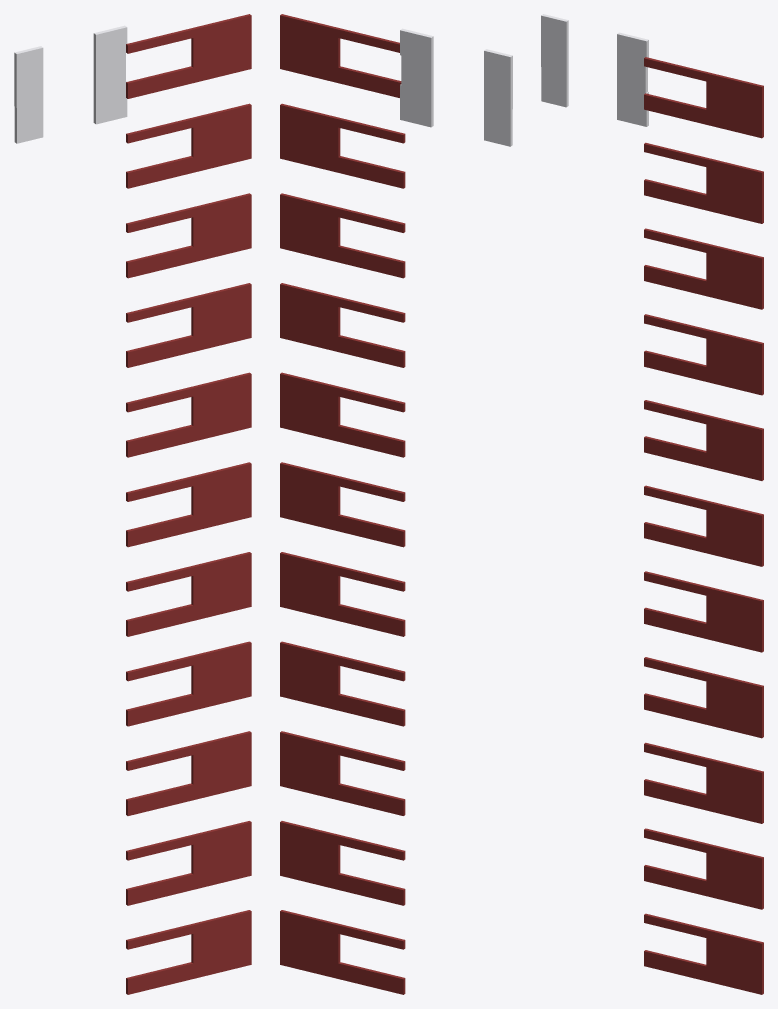
File: PROJETO BIM 12 ANDARES_D_cimo_segundo_IfcWall.dae
The picture shows the model from 3 angles, left to right: view 1: azimuth 30°, elevation 25°; view 2: azimuth 150°, elevation 25°; view 3: azimuth 330°, elevation 25°; orthographic projection. The views are drawn at different scales.
Parts seen in each view (by area): view 1: 2k8VaP38D1sBo57KDqpnhj, 1C3e13NTDBWfr6F8kTVnSG; view 2: 2k8VaP38D1sBo57KDqpnhj, 1C3e13NTDBWfr6F8kTVnSG; view 3: 2k8VaP38D1sBo57KDqpnhj, 1C3e13NTDBWfr6F8kTVnSG.
Boxes of the visible parts, x1,y1,x2,y2 form: 2k8VaP38D1sBo57KDqpnhj: [126, 14, 251, 994]; 1C3e13NTDBWfr6F8kTVnSG: [14, 25, 127, 143]; 2k8VaP38D1sBo57KDqpnhj: [280, 14, 405, 994]; 1C3e13NTDBWfr6F8kTVnSG: [400, 28, 512, 146]; 2k8VaP38D1sBo57KDqpnhj: [644, 57, 763, 994]; 1C3e13NTDBWfr6F8kTVnSG: [541, 14, 648, 126].
Size of the model in its own units: 8.81 by 0.27 by 34.92.
